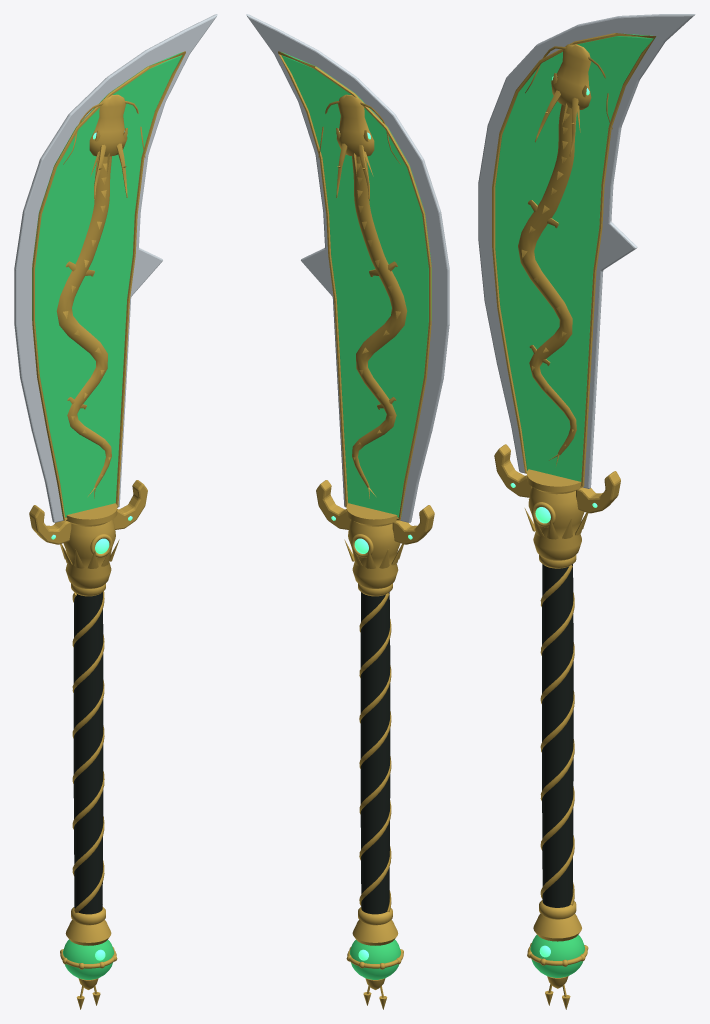
Rendered from wp-glaive-guandao.glb.
The picture shows the model from 3 angles, left to right: view 1: azimuth 30°, elevation 25°; view 2: azimuth 150°, elevation 25°; view 3: azimuth 330°, elevation 25°; orthographic projection. The views are drawn at different scales.
Parts seen in each view (by area): view 1: wp-glaive-guandao; view 2: wp-glaive-guandao; view 3: wp-glaive-guandao.
Boxes of the visible parts, box(x1,y1,x2,y2) form: wp-glaive-guandao: box(14, 14, 217, 1009); wp-glaive-guandao: box(246, 14, 449, 1009); wp-glaive-guandao: box(478, 14, 695, 1009).
Bounding box in the file's own units: 0.3065 × 1.39 × 0.081.
